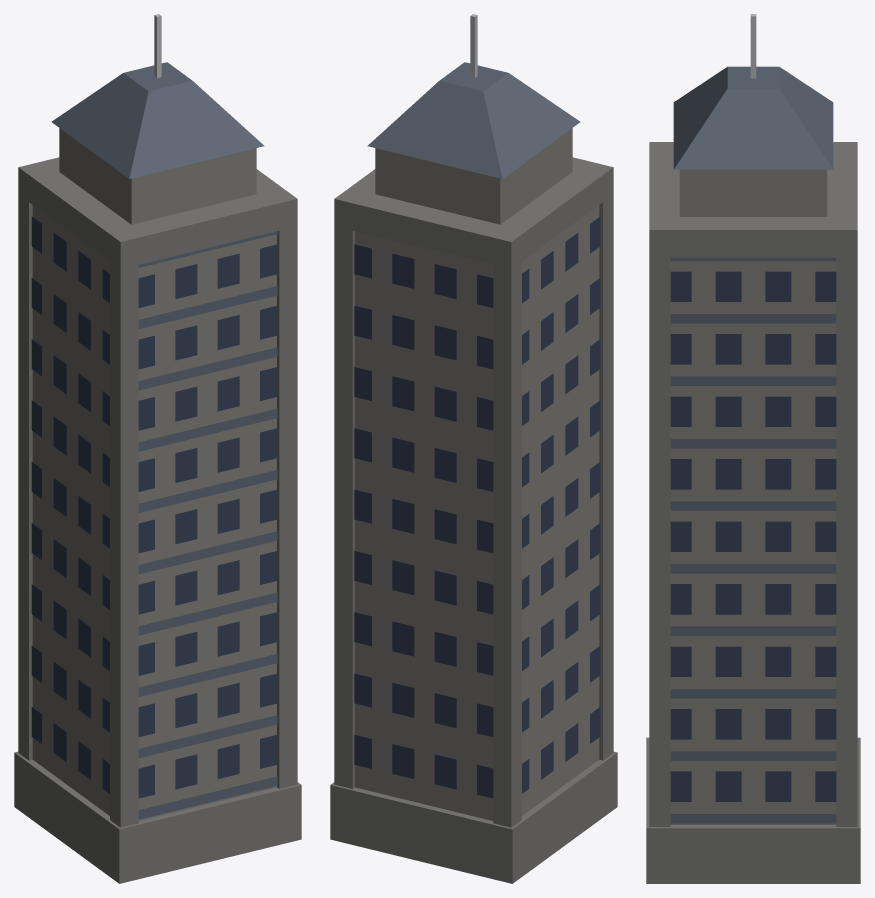
The model's file is towers_lvl1.glb.
3 views of the same model, side by side, from view 1: azimuth 30°, elevation 25°; view 2: azimuth 150°, elevation 25°; view 3: azimuth 270°, elevation 25° (orthographic).
Visible parts, largest first — view 1: towers; view 2: towers; view 3: towers.
Part boxes in pixels (left/top/right/bottom): towers: left=14, top=14, right=301, bottom=883; towers: left=330, top=14, right=617, bottom=883; towers: left=646, top=14, right=860, bottom=883.
Size of the model in its own units: 1 by 4.24 by 1.
